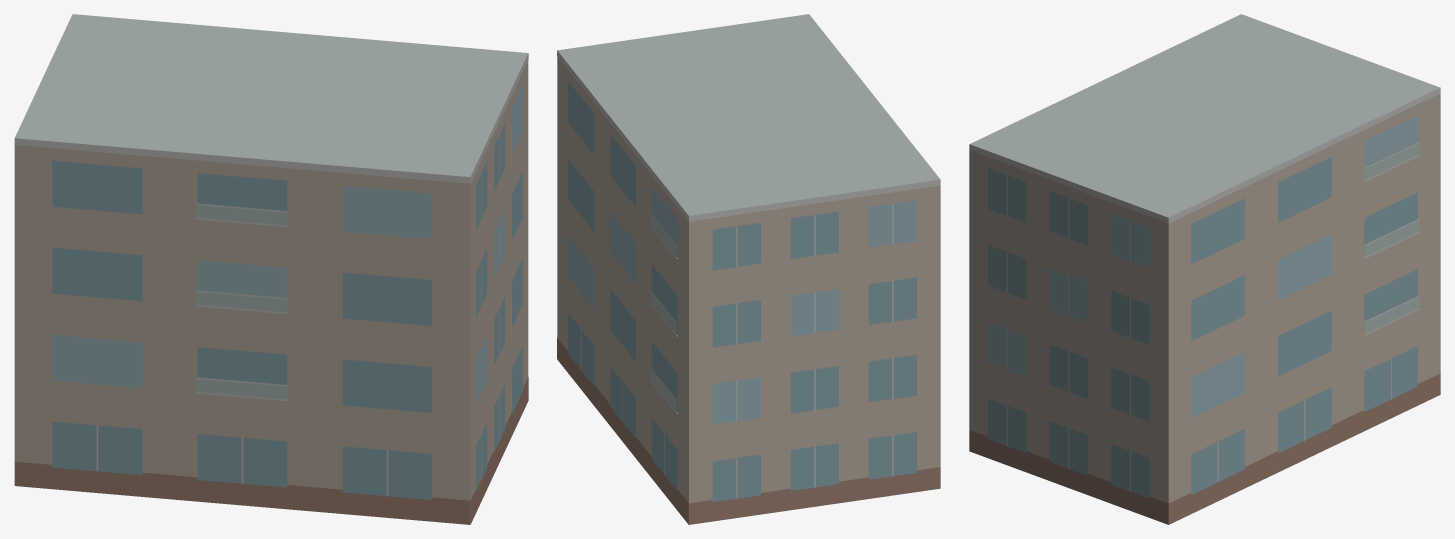
The model's file is survey-upis-32936471.glb.
3 renders of one model, left to right at view 1: azimuth 30°, elevation 25°; view 2: azimuth 150°, elevation 25°; view 3: azimuth 270°, elevation 25°, orthographic. The views are drawn at different scales.
Visible parts, largest first — view 1: survey-upis-32936471.tmp; view 2: survey-upis-32936471.tmp; view 3: survey-upis-32936471.tmp.
Part boxes in pixels (x1,y1,x2,y2): survey-upis-32936471.tmp: (14, 14, 528, 524); survey-upis-32936471.tmp: (557, 14, 940, 524); survey-upis-32936471.tmp: (969, 14, 1440, 524).
Size of the model in its own units: 18.07 by 12.7 by 17.66.
